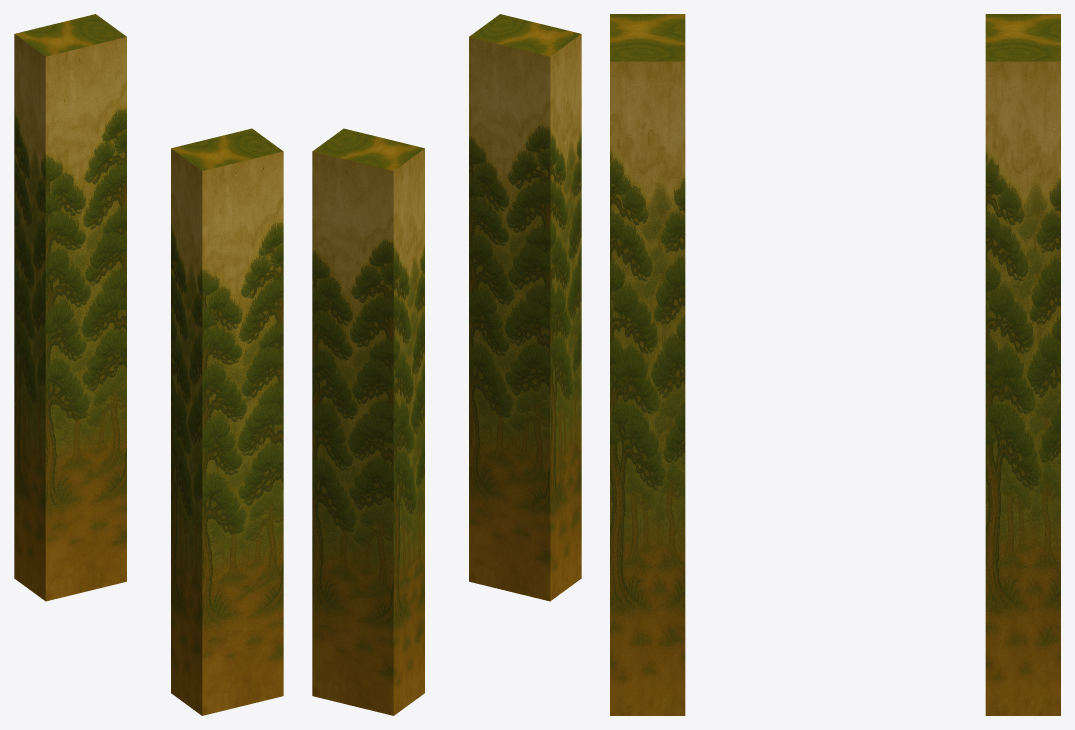
Rendered from K_froest_door.fbx.
The picture shows the model from 3 angles, left to right: view 1: azimuth 30°, elevation 25°; view 2: azimuth 150°, elevation 25°; view 3: azimuth 270°, elevation 25°; orthographic projection. The views are drawn at different scales.
Visible parts, largest first — view 1: froest_wall_door.002; view 2: froest_wall_door.002; view 3: froest_wall_door.002.
Boxes of the visible parts, box(x1,y1,x2,y2) form: froest_wall_door.002: box(14, 14, 283, 715); froest_wall_door.002: box(312, 14, 581, 715); froest_wall_door.002: box(610, 14, 1060, 715).
Size of the model in its own units: 50 by 320 by 200.
Materials: 2 (2 with a texture image).
